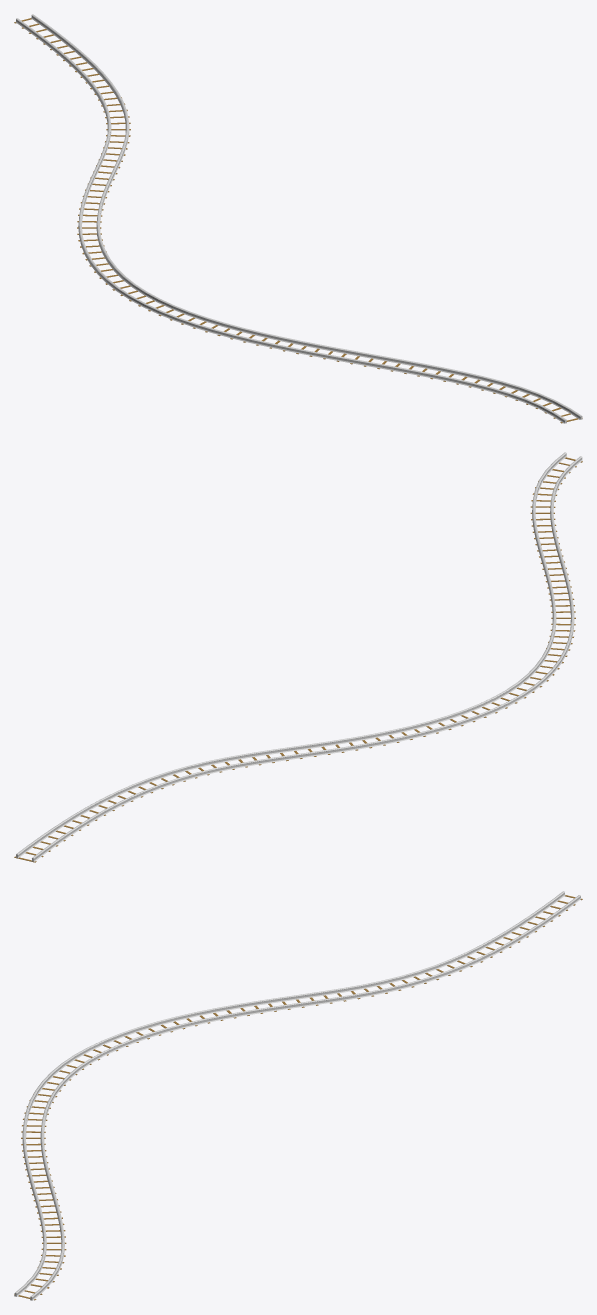
File: left2.fbx
3 renders of one model, top to bottom at view 1: azimuth 30°, elevation 25°; view 2: azimuth 150°, elevation 25°; view 3: azimuth 330°, elevation 25°, orthographic.
Visible parts, largest first — view 1: Top, Bot; view 2: Top, Bot; view 3: Top, Bot.
Part boxes in pixels (bbox=[...]): Top: bbox=[16, 14, 582, 423]; Bot: bbox=[14, 18, 582, 423]; Top: bbox=[15, 452, 582, 861]; Bot: bbox=[14, 457, 582, 862]; Top: bbox=[14, 891, 581, 1300]; Bot: bbox=[14, 895, 582, 1300].
Size of the model in its own units: 3478 by 58.2 by 14953.
